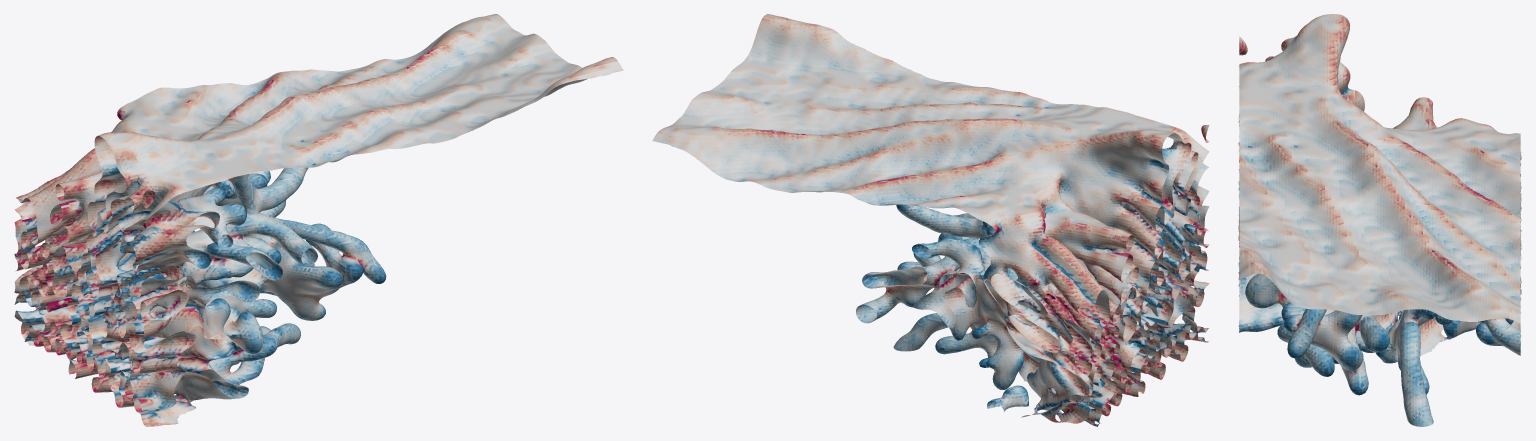
The model's file is crop1138_curvature.glb.
3 views of the same model, side by side, from view 1: azimuth 30°, elevation 25°; view 2: azimuth 150°, elevation 25°; view 3: azimuth 270°, elevation 25° (orthographic). The views are drawn at different scales.
Visible parts, largest first — view 1: world; view 2: world; view 3: world.
Boxes of the visible parts, x1,y1,x2,y2 form: world: [14, 14, 623, 426]; world: [652, 14, 1209, 426]; world: [1238, 14, 1521, 426].
Size of the model in its own units: 3078 by 1611 by 1480.
